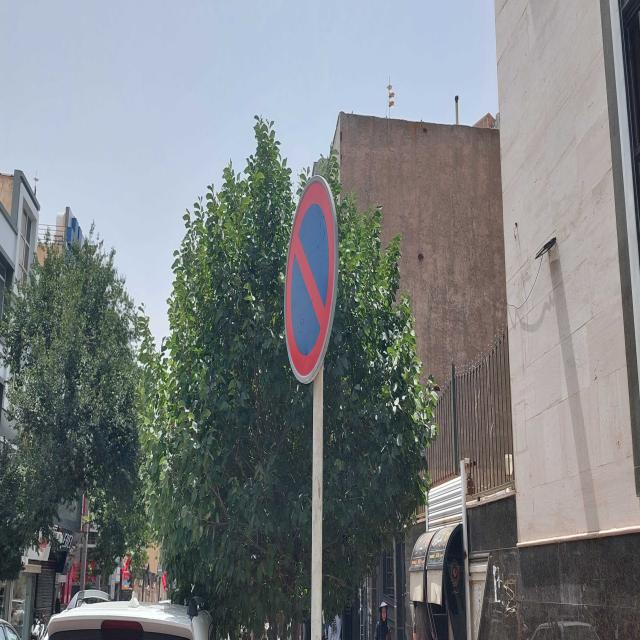forb_stopping: (285, 175, 339, 386)
